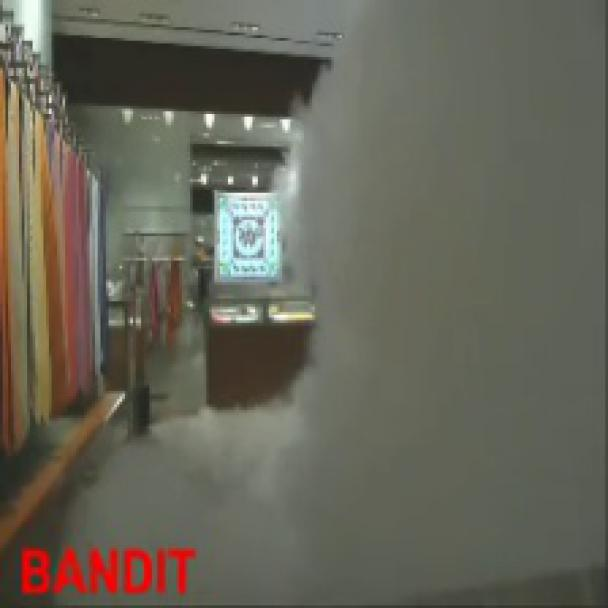smoke: (112, 3, 606, 605)
